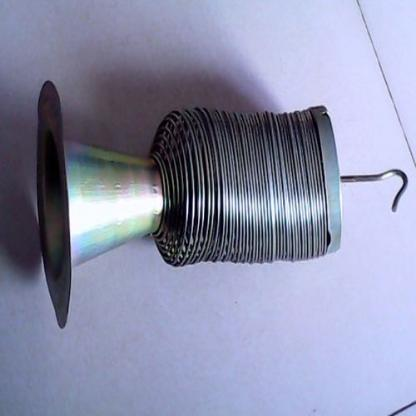FOD: (150, 98, 330, 278)
